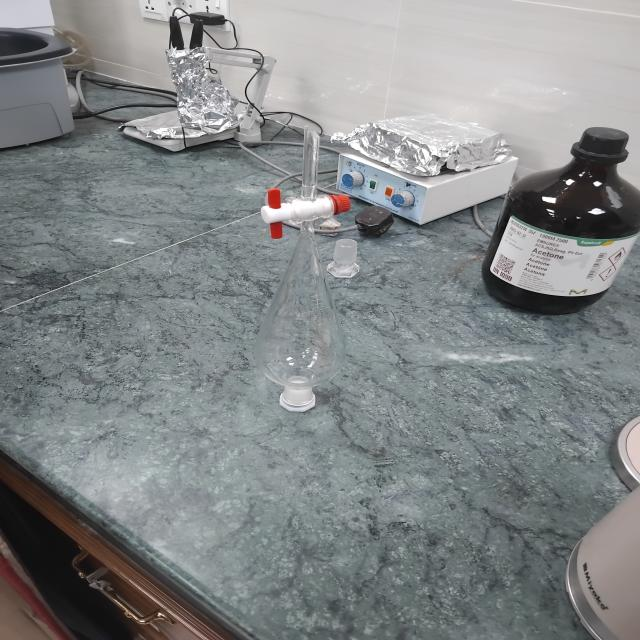Separating_Funnel: (238, 106, 365, 420)
